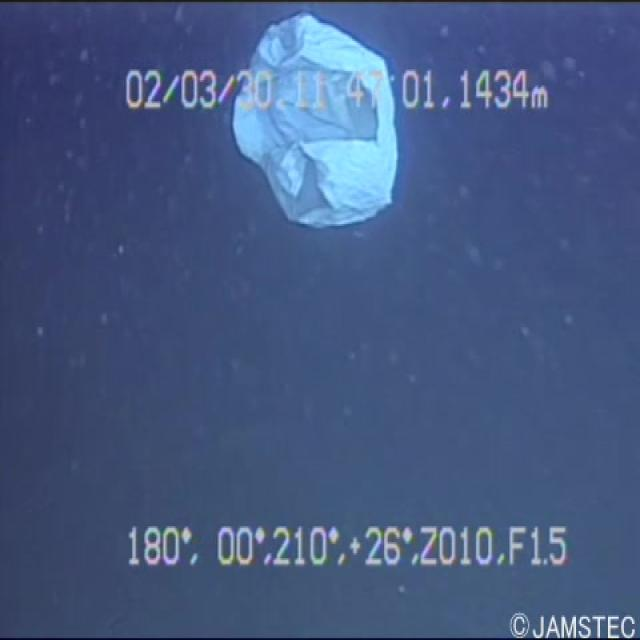plastic: (200, 9, 416, 256)
